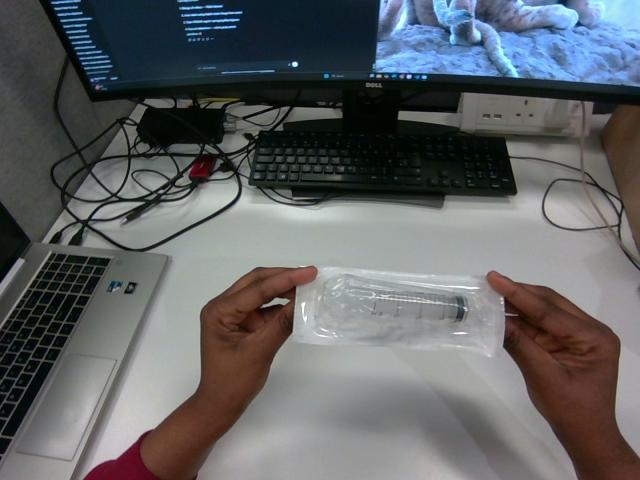syringe: (292, 267, 503, 355)
